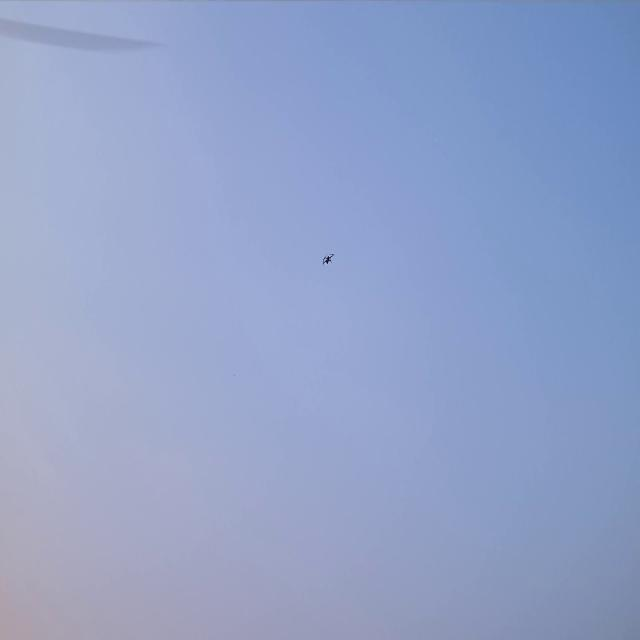UAV: (321, 252, 335, 266)
